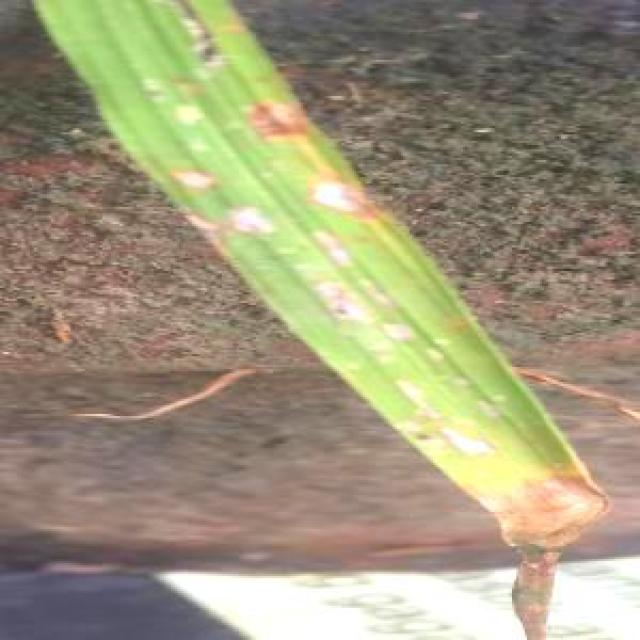Leaf_Blast: (232, 76, 310, 154), (307, 162, 399, 222), (213, 190, 301, 252), (152, 145, 214, 203)
